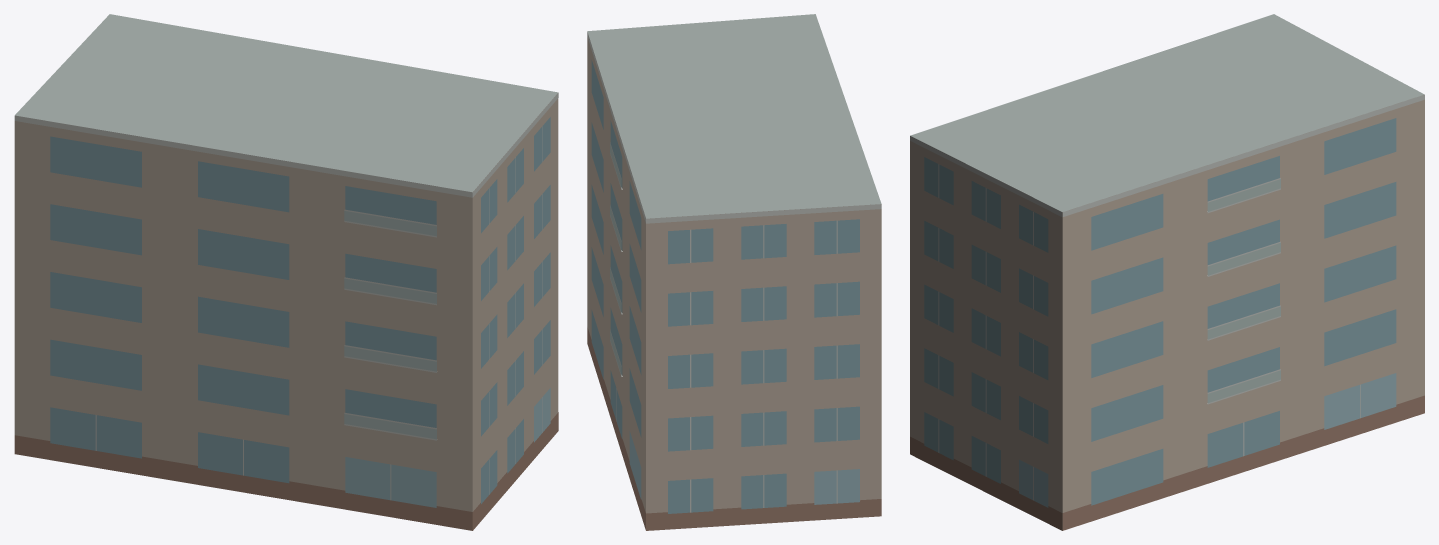
Rendered from survey-upis-32971409.glb.
3 views of the same model, side by side, from view 1: azimuth 30°, elevation 25°; view 2: azimuth 150°, elevation 25°; view 3: azimuth 270°, elevation 25° (orthographic). The views are drawn at different scales.
Visible parts, largest first — view 1: survey-upis-32971409.tmp; view 2: survey-upis-32971409.tmp; view 3: survey-upis-32971409.tmp.
Part boxes in pixels (x1,y1,x2,y2): survey-upis-32971409.tmp: (14, 14, 558, 530); survey-upis-32971409.tmp: (587, 14, 881, 530); survey-upis-32971409.tmp: (910, 14, 1424, 530).
Size of the model in its own units: 20.28 by 15.2 by 22.26.
